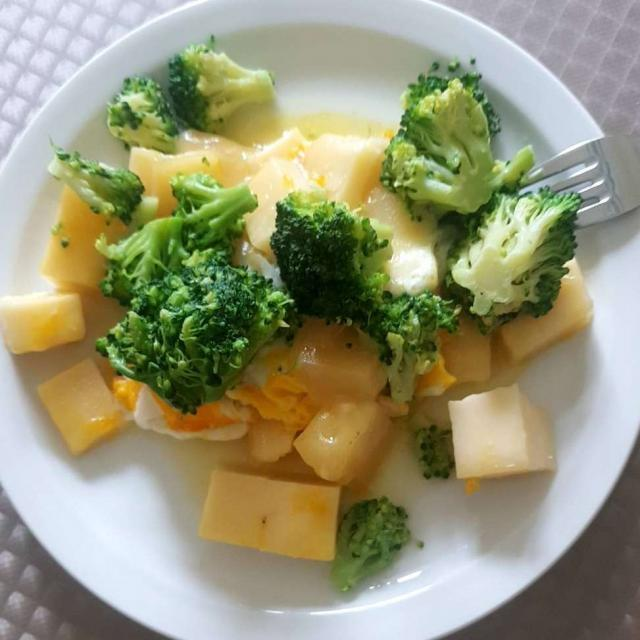eggs: (132, 341, 318, 442)
